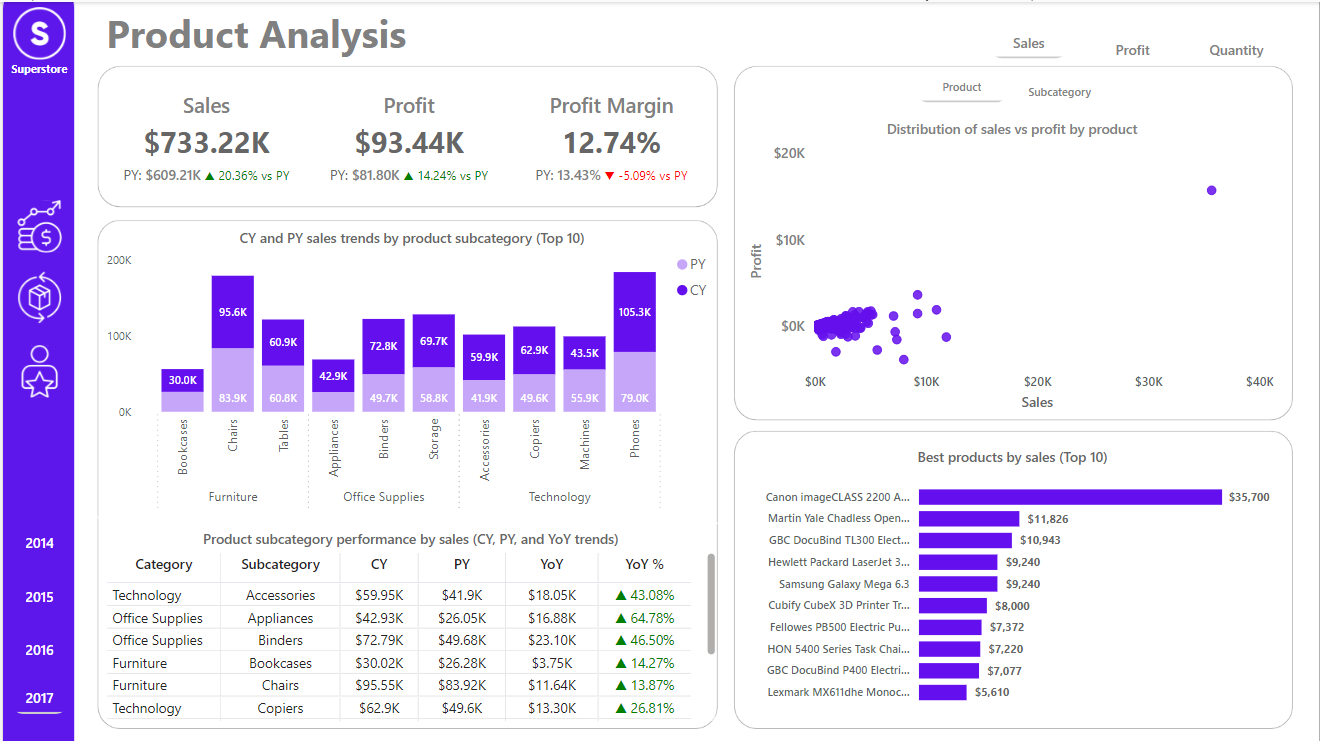

This screenshot's page, from the dashboard's own definition file:
{"tool":"powerbi","page":{"name":"Product Analysis","canvas":[1280,720],"ordinal":1},"visuals":[{"type":"clusteredBarChart","fields":{"Y":["All measures.Total Quantity"],"Category":["Products.Product Name"]},"box":[714.9,423.1,532,282.1],"z":0},{"type":"tableEx","fields":{"Values":["Products.Category","Products.Sub-Category","All measures.CY Selection Formatted","All measures.PY Selection Formatted","All measures.YoY","All measures.YoY Growth % Display"]},"box":[94.9,513.6,602.5,190.9],"z":1000},{"type":"scatterChart","fields":{"Category":["Sales.Product ID"],"X":["All measures.Total Sales"],"Y":["All measures.Total Profit"]},"box":[721.7,114.8,519.4,286.9],"z":2000},{"type":"columnChart","fields":{"Y":["All measures.PY Selection","All measures.CY Selection"],"Category":["Products.Category","Sales.Sub-Category"]},"box":[85.6,210.1,622.5,303.5],"z":3000},{"type":"textbox","box":[95,0,388,67],"z":4000},{"type":"advancedSlicerVisual","fields":{"Values":["Distribution Selection.Distribution Selection"]},"box":[880.2,41.8,201.3,81.7],"z":5000},{"type":"advancedSlicerVisual","fields":{"Values":["Calendar.Year"]},"box":[0,479.5,71,240.2],"z":6000},{"type":"actionButton","box":[0,329.7,71,59.3],"z":7000},{"type":"actionButton","box":[0,257.8,71,59.3],"z":8000},{"type":"actionButton","box":[0,188.7,71,59.3],"z":9000},{"type":"actionButton","box":[0,1,71,59.3],"z":10000},{"type":"textbox","box":[0,49.6,77.8,31.1],"z":11000},{"type":"advancedSlicerVisual","fields":{"Values":["Map Selection.Map Selection"]},"box":[952.2,0,293.7,80.7],"z":12000},{"type":"cardVisual","fields":{"Data":["All measures.Total Sales","All measures.Total Profit","All measures.Profit Margin"]},"box":[94.3,60.3,602.1,143],"z":13000}]}

Visuals, with their boxes in screenshot pixels (x1, y1, x2, y2), scaled from the page's 1280x720 canvas onto the 1320x741 screenshot:
clusteredBarChart - All measures.Total Quantity x Products.Product Name: 737 435 1286 726
tableEx - Products.Category x Products.Sub-Category: 98 529 719 725
scatterChart - Sales.Product ID x All measures.Total Sales: 744 118 1280 413
columnChart - All measures.PY Selection x All measures.CY Selection: 88 216 730 529
textbox: 98 0 498 69
advancedSlicerVisual - Distribution Selection.Distribution Selection: 908 43 1115 127
advancedSlicerVisual - Calendar.Year: 0 493 73 740
actionButton: 0 339 73 400
actionButton: 0 265 73 326
actionButton: 0 194 73 255
actionButton: 0 1 73 62
textbox: 0 51 80 83
advancedSlicerVisual - Map Selection.Map Selection: 982 0 1285 83
cardVisual - All measures.Total Sales x All measures.Total Profit: 97 62 718 209
